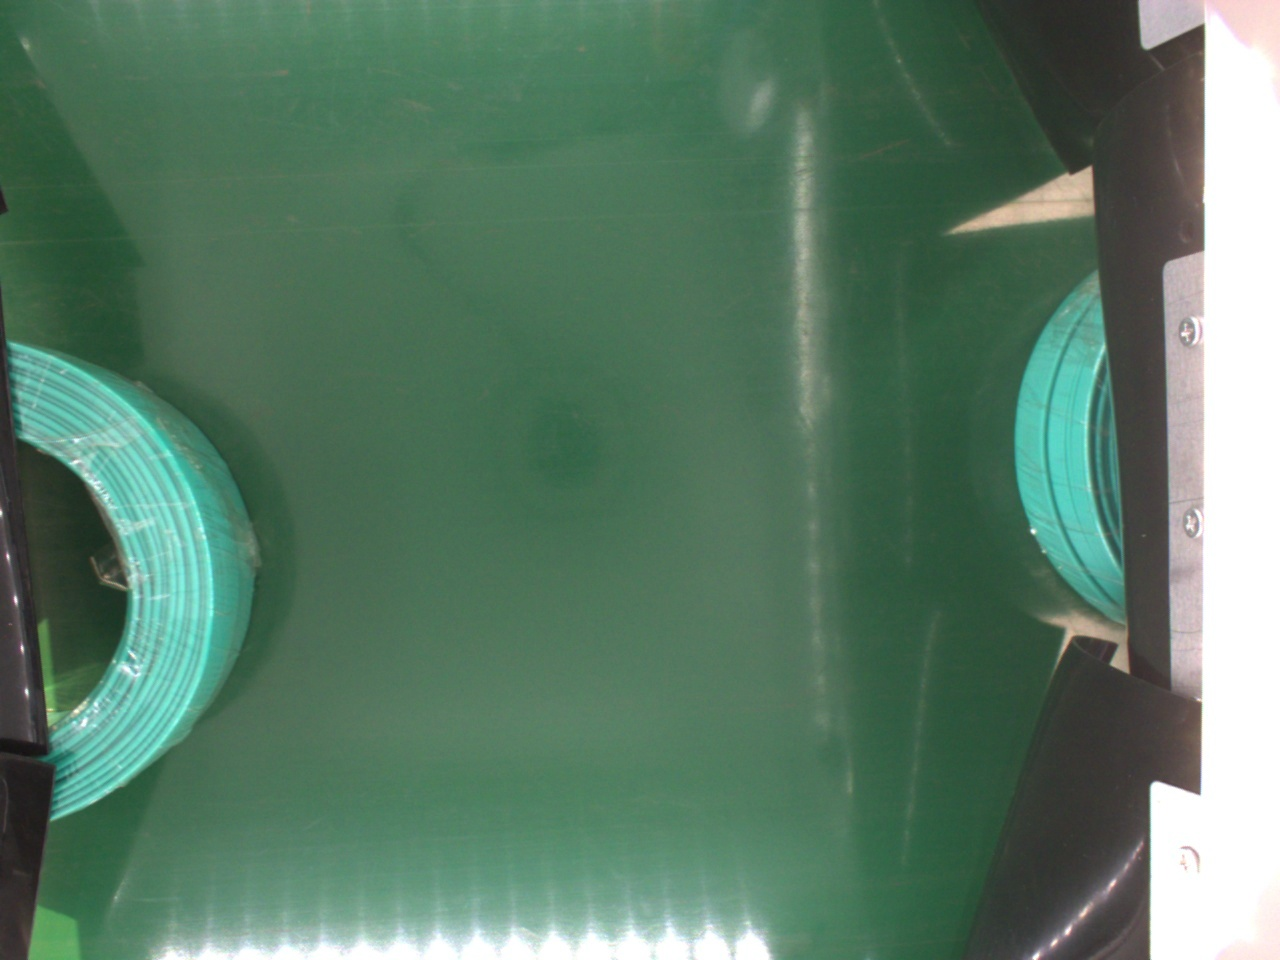green: (9, 338, 261, 822), (1014, 266, 1132, 641)
